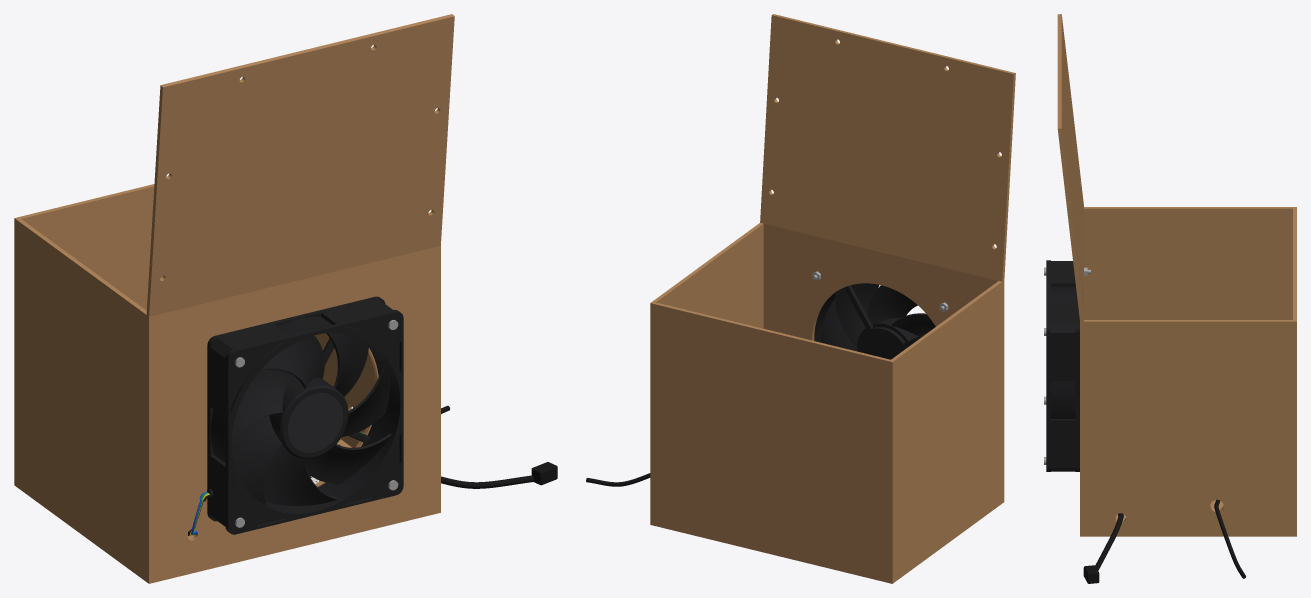
Rendered from assembly_detailed.glb.
The picture shows the model from 3 angles, left to right: view 1: azimuth 30°, elevation 25°; view 2: azimuth 150°, elevation 25°; view 3: azimuth 270°, elevation 25°; orthographic projection. The views are drawn at different scales.
Visible parts, largest first — view 1: Box_Walls, Box_Lid_Flap, Fan_Frame, Fan_Rotor, Cable_12V_DC_In; view 2: Box_Walls, Box_Lid_Flap, Fan_Rotor, Fan_Frame; view 3: Box_Walls, Fan_Frame, Box_Lid_Flap, Cable_12V_DC_In, Cable_USB.
Part boxes in pixels (x1,y1,x2,y2): Box_Walls: (14,184,440,583); Box_Lid_Flap: (146,14,454,316); Fan_Frame: (207,296,403,534); Fan_Rotor: (231,332,391,505); Cable_12V_DC_In: (441,462,557,488); Box_Walls: (650,223,1004,583); Box_Lid_Flap: (760,14,1015,281); Fan_Rotor: (821,283,935,351); Fan_Frame: (814,285,927,359); Box_Walls: (1080,207,1296,536); Fan_Frame: (1046,260,1079,471); Box_Lid_Flap: (1057,14,1083,321); Cable_12V_DC_In: (1083,513,1123,583); Cable_USB: (1214,500,1245,578).
Size of the model in its own units: 0.2836 by 0.3324 by 0.1866.
41 materials, 3 textured.
